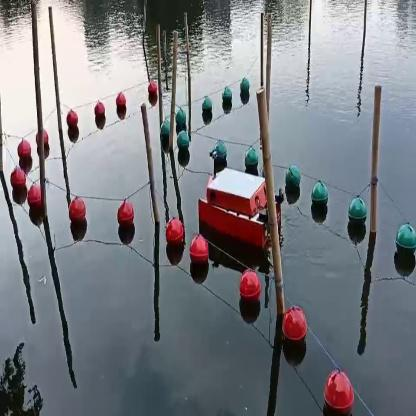green_buoy: (346, 190, 368, 239), (394, 221, 415, 262), (308, 178, 329, 214), (284, 168, 298, 199), (178, 133, 190, 155), (238, 80, 249, 102), (246, 148, 258, 168), (202, 98, 212, 122), (216, 140, 227, 161), (223, 92, 234, 110), (177, 109, 187, 127), (161, 122, 168, 142)
red_buoy: (322, 368, 350, 414), (282, 308, 307, 348), (188, 230, 210, 272), (164, 214, 184, 257), (116, 195, 135, 234), (241, 271, 261, 308), (68, 194, 86, 224), (65, 109, 80, 137), (10, 166, 26, 190), (30, 185, 42, 214), (94, 102, 106, 130), (113, 90, 126, 113), (18, 145, 30, 162), (146, 83, 156, 102)
